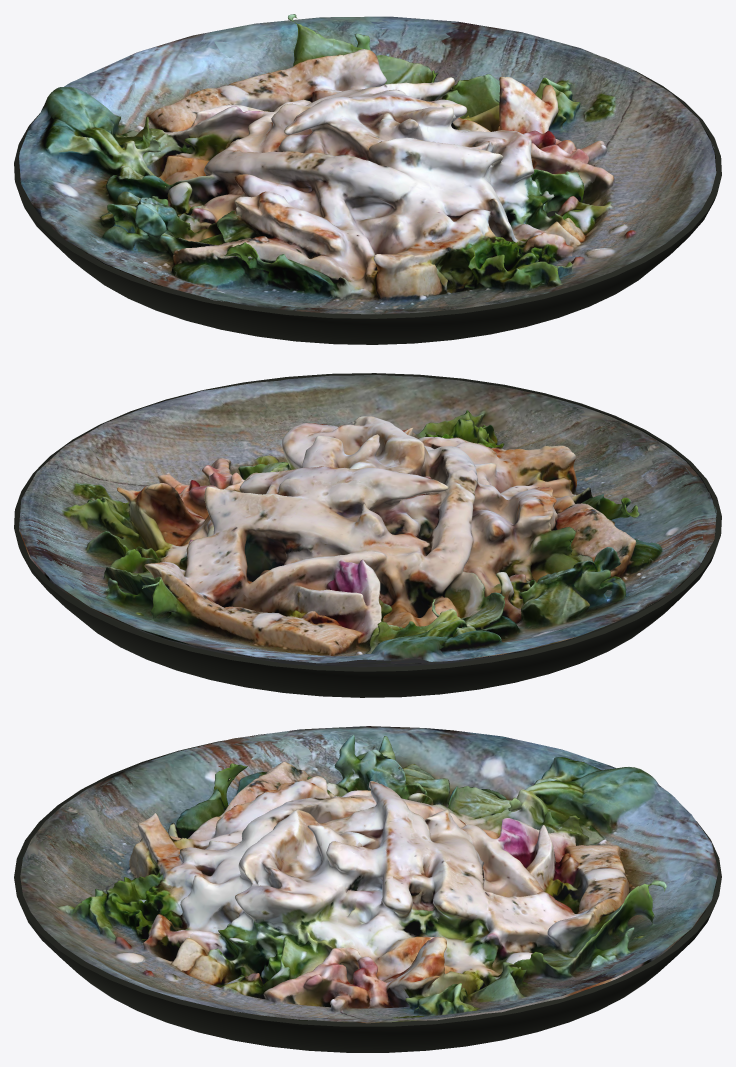
The model's file is Plato_01.glb.
3 views of the same model, one above another, from view 1: azimuth 30°, elevation 25°; view 2: azimuth 150°, elevation 25°; view 3: azimuth 270°, elevation 25° (orthographic).
Visible parts, largest first — view 1: CesarSaladOriSculptDecim, CesarSBasePlate; view 2: CesarSaladOriSculptDecim, CesarSBasePlate; view 3: CesarSaladOriSculptDecim, CesarSBasePlate.
Part boxes in pixels (<box>): CesarSaladOriSculptDecim: <box>19,14,716,314</box>; CesarSBasePlate: <box>14,57,721,344</box>; CesarSaladOriSculptDecim: <box>19,375,716,667</box>; CesarSBasePlate: <box>14,373,721,697</box>; CesarSaladOriSculptDecim: <box>20,726,718,1023</box>; CesarSBasePlate: <box>14,734,721,1052</box>.
Bounding box in the file's own units: 0.253 × 0.0468 × 0.253.
Materials: 2 (1 with a texture image).
